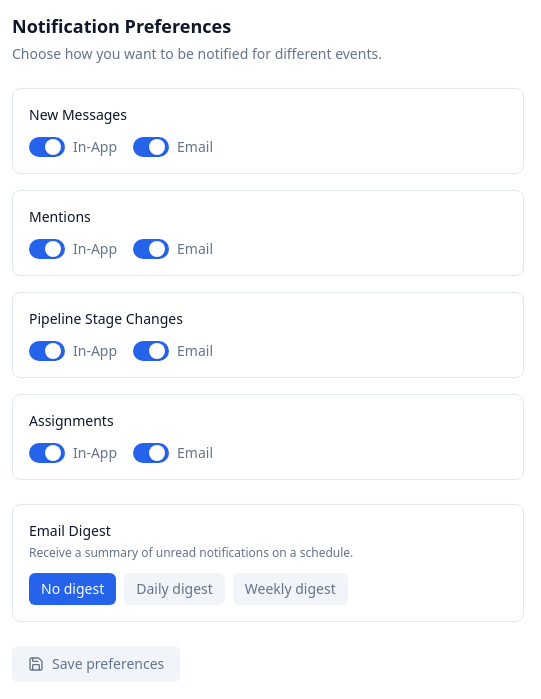
Scenario: NotificationPreferences › shows success message after save
Step 1. Click the switch with test id "pref-switch-message-email" → {"x": 151, "y": 147}, box [133,137,169,157]
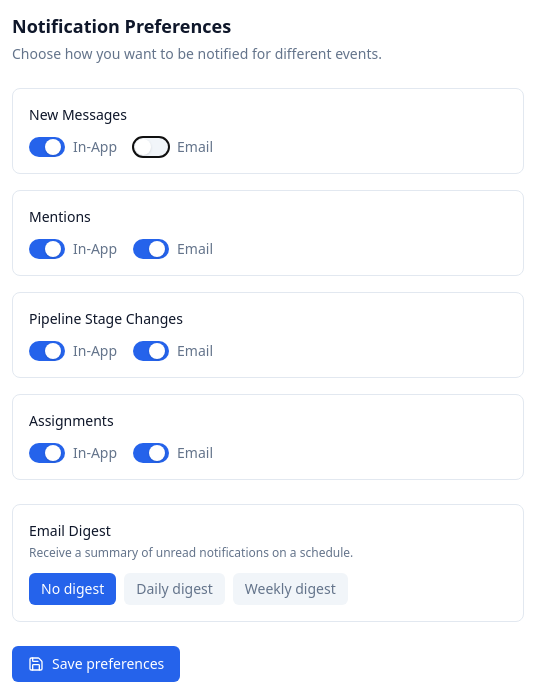
Step 2. Click the button with test id "save-preferences-btn" → {"x": 96, "y": 664}, box [12,646,180,682]
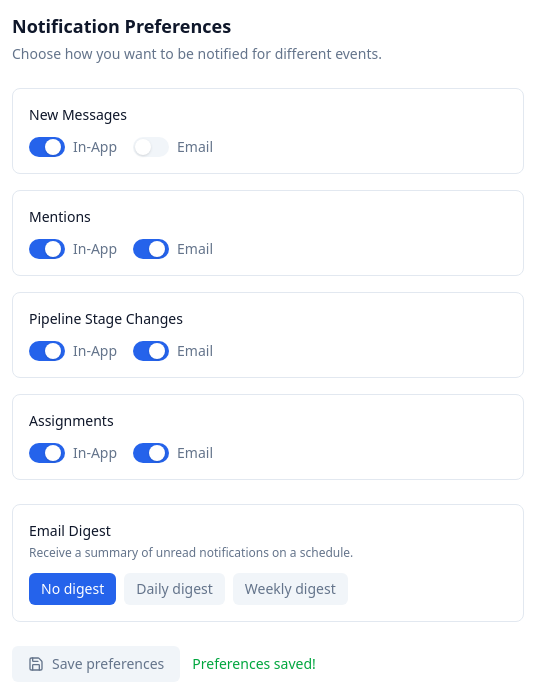
Expected: the text "Preferences saved!" is shown, [192,654,316,674]
Expected: the text with test id "save-success-message" reads "Preferences saved!", [192,654,316,673]
